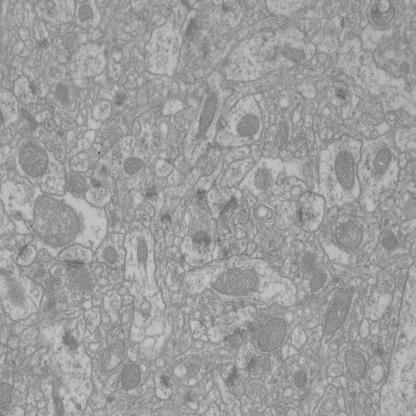mitochondria: (31, 194, 82, 249), (323, 285, 356, 336), (211, 268, 259, 294), (18, 140, 49, 177), (258, 317, 287, 352), (196, 92, 219, 136), (334, 149, 356, 191), (334, 219, 363, 250), (344, 348, 368, 382), (120, 362, 141, 390), (236, 113, 260, 137), (66, 173, 87, 194), (374, 148, 392, 172), (309, 268, 327, 292), (123, 156, 145, 175), (0, 381, 14, 409), (380, 230, 398, 251), (136, 238, 149, 266), (77, 3, 94, 23), (102, 244, 118, 264), (293, 368, 308, 389)
